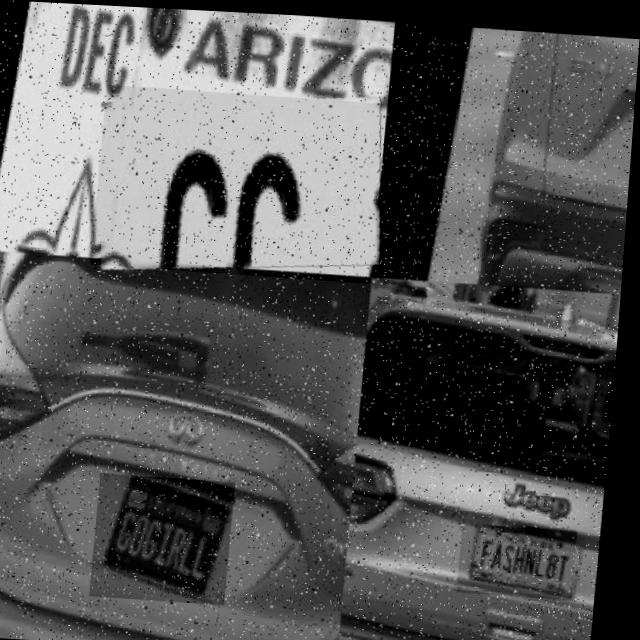LicensePlate: (94, 83, 392, 280), (98, 471, 242, 602), (466, 518, 584, 593)
